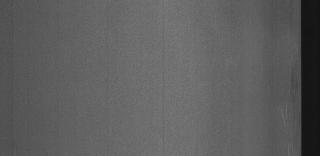silk spot: (280, 47, 300, 147)
